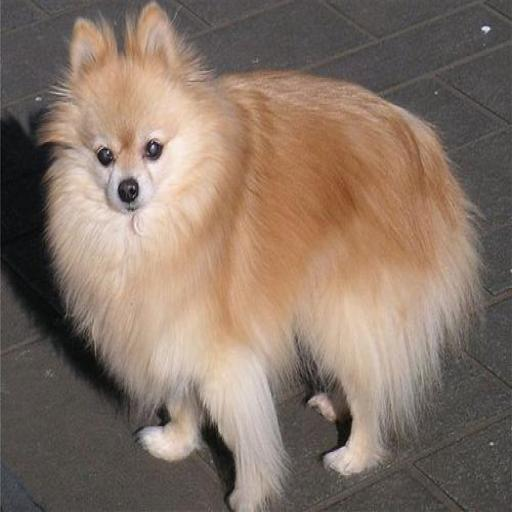dog_face: (63, 18, 182, 209)
